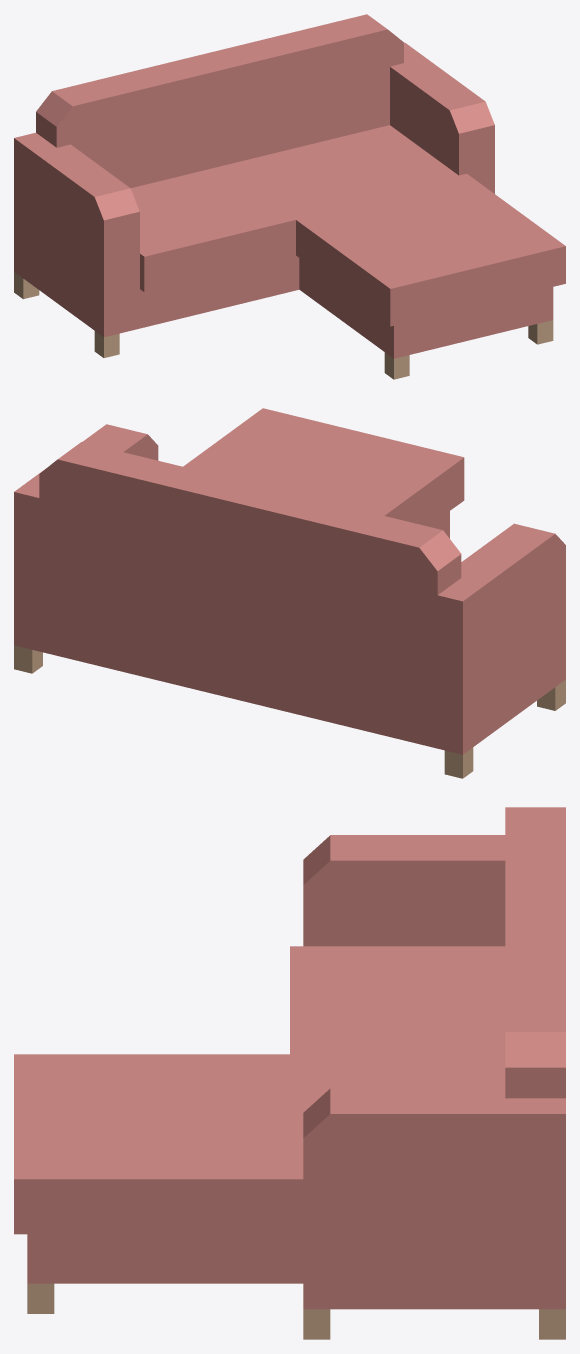
Rendered from loungeSofaLong.glb.
3 renders of one model, top to bottom at view 1: azimuth 30°, elevation 25°; view 2: azimuth 150°, elevation 25°; view 3: azimuth 270°, elevation 25°, orthographic. The views are drawn at different scales.
Parts seen in each view (by area): view 1: loungeSofaLong; view 2: loungeSofaLong; view 3: loungeSofaLong.
Part boxes in pixels (x1,y1,x2,y2): loungeSofaLong: [14, 14, 565, 379]; loungeSofaLong: [14, 408, 565, 778]; loungeSofaLong: [14, 807, 565, 1339].
Size of the model in its own units: 0.98 by 0.46 by 0.82.
